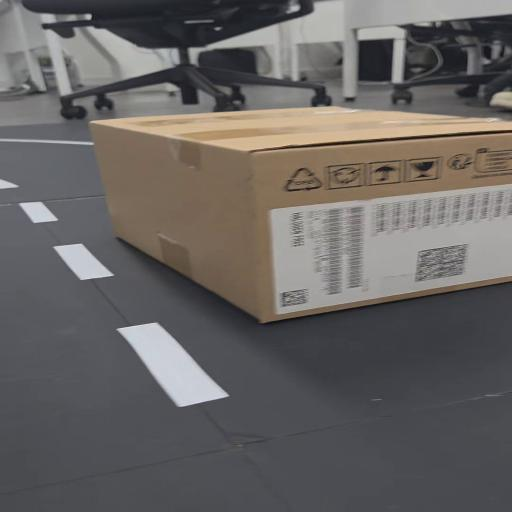Box: (87, 106, 512, 324)
